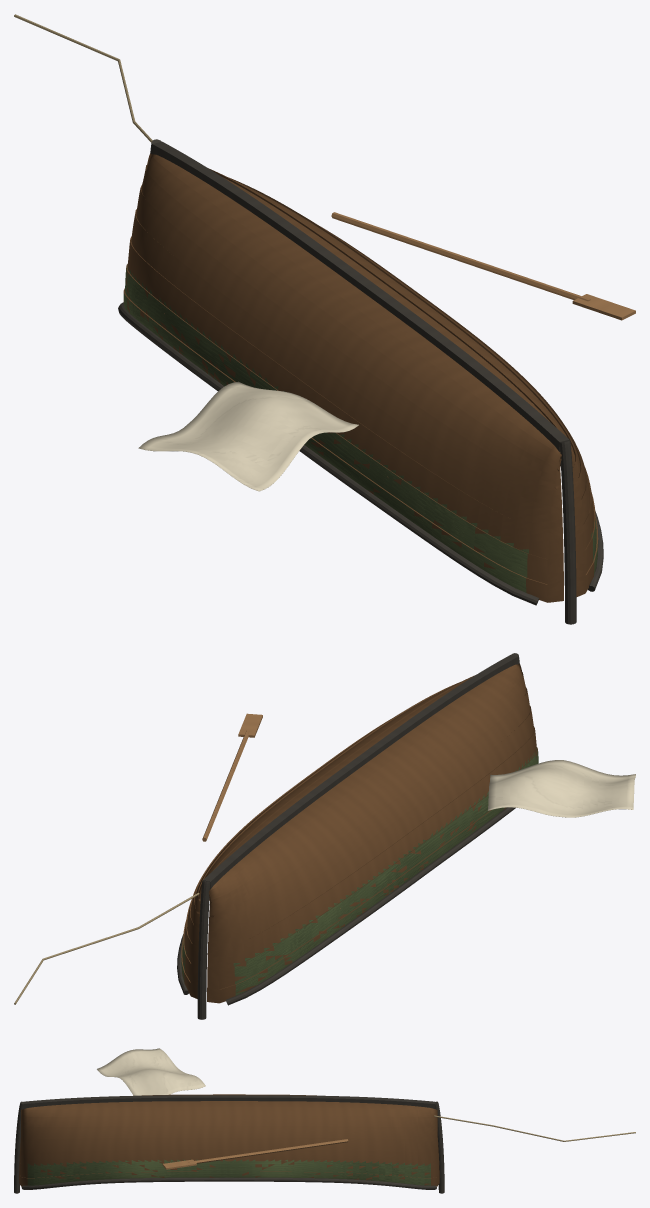
Rendered from ship.glb.
3 renders of one model, top to bottom at view 1: azimuth 30°, elevation 25°; view 2: azimuth 150°, elevation 25°; view 3: azimuth 270°, elevation 25°, orthographic. The views are drawn at different scales.
Visible parts, largest first — view 1: strake_starboard_05, strake_starboard_04, strake_starboard_03, strake_starboard_06, floating_sailcloth, strake_starboard_02, strake_starboard_07, strake_starboard_01, keel, strake_starboard_08, gunwale_starboard, strake_port_02 (+5 smaller); view 2: strake_starboard_05, strake_starboard_04, strake_starboard_06, strake_starboard_03, floating_sailcloth, strake_starboard_02, strake_starboard_07, strake_starboard_01, keel, strake_starboard_08, gunwale_starboard, strake_port_02 (+6 smaller); view 3: strake_port_05, strake_port_06, strake_port_04, strake_port_07, strake_port_03, strake_port_02, floating_sailcloth, strake_port_08, keel, strake_port_01, gunwale_port, floating_oar_shaft (+3 smaller).
Part boxes in pixels (x1,y1,x2,y2): strake_starboard_05: (131, 209, 562, 533); strake_starboard_04: (136, 184, 562, 509); strake_starboard_03: (141, 165, 561, 489); strake_starboard_06: (127, 236, 563, 559); floating_sailcloth: (138, 381, 358, 491); strake_starboard_02: (147, 153, 561, 471); strake_starboard_07: (125, 263, 563, 584); strake_starboard_01: (151, 154, 561, 458); keel: (152, 141, 569, 451); strake_starboard_08: (123, 288, 563, 602); gunwale_starboard: (118, 302, 539, 605); strake_port_02: (208, 168, 575, 467); strake_starboard_05: (208, 706, 533, 950); strake_starboard_04: (208, 687, 530, 931); strake_starboard_06: (207, 727, 536, 970); strake_starboard_03: (209, 672, 526, 917); floating_sailcloth: (488, 760, 635, 817); strake_starboard_02: (209, 663, 522, 903); strake_starboard_07: (207, 747, 538, 989); strake_starboard_01: (209, 664, 518, 894); keel: (203, 655, 518, 889); strake_starboard_08: (207, 807, 506, 1003); gunwale_starboard: (226, 807, 515, 1005); strake_port_02: (198, 675, 474, 901); strake_port_05: (20, 1137, 438, 1152); strake_port_06: (19, 1149, 438, 1165); strake_port_04: (21, 1125, 437, 1138); strake_port_07: (19, 1161, 439, 1177); strake_port_03: (21, 1115, 437, 1127); strake_port_02: (21, 1107, 437, 1116); floating_sailcloth: (97, 1048, 205, 1095); strake_port_08: (19, 1171, 439, 1186); keel: (23, 1095, 435, 1109); strake_port_01: (23, 1101, 435, 1109); gunwale_port: (21, 1177, 436, 1189); floating_oar_shaft: (189, 1139, 348, 1163).
Size of the model in its own units: 4.53 by 1.63 by 9.56.
Materials: 6 (6 with a texture image).
